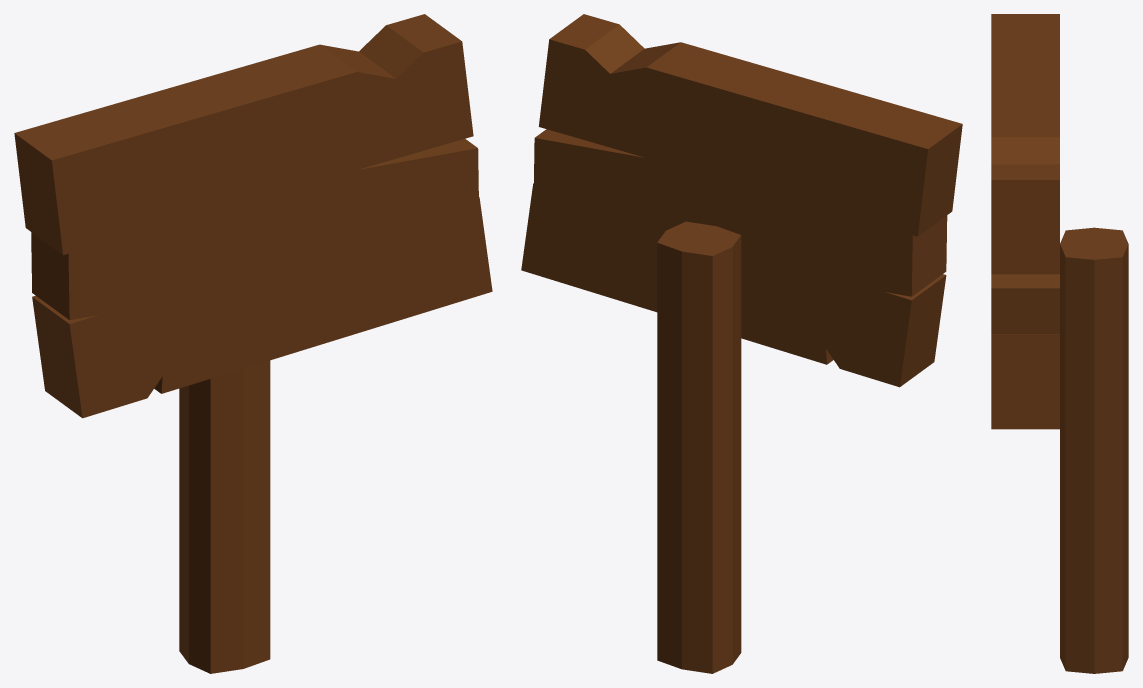
File: Sign.fbx
The picture shows the model from 3 angles, left to right: view 1: azimuth 30°, elevation 25°; view 2: azimuth 150°, elevation 25°; view 3: azimuth 270°, elevation 25°; orthographic projection. The views are drawn at different scales.
Parts seen in each view (by area): view 1: Cube; view 2: Cube; view 3: Cube.
Boxes of the visible parts, x1,y1,x2,y2 form: Cube: [14, 14, 492, 673]; Cube: [521, 14, 962, 673]; Cube: [991, 14, 1128, 673].
Bounding box in the file's own units: 204 × 270 × 60.
